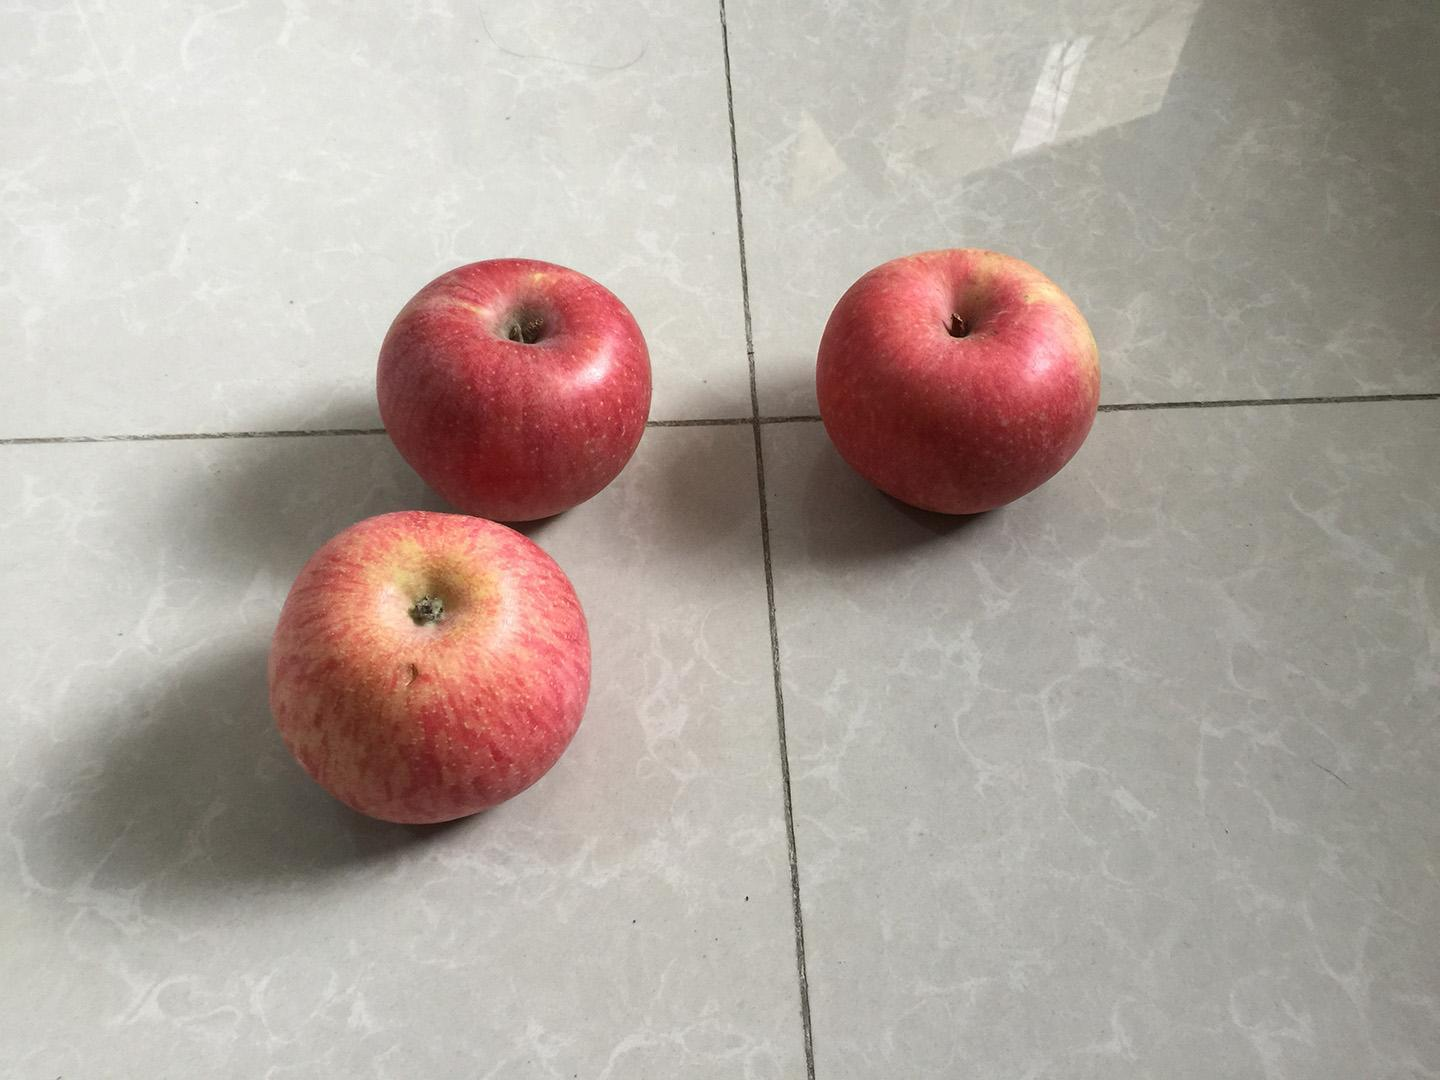apple: (256, 495, 605, 832), (363, 241, 672, 533), (802, 241, 1117, 528)
